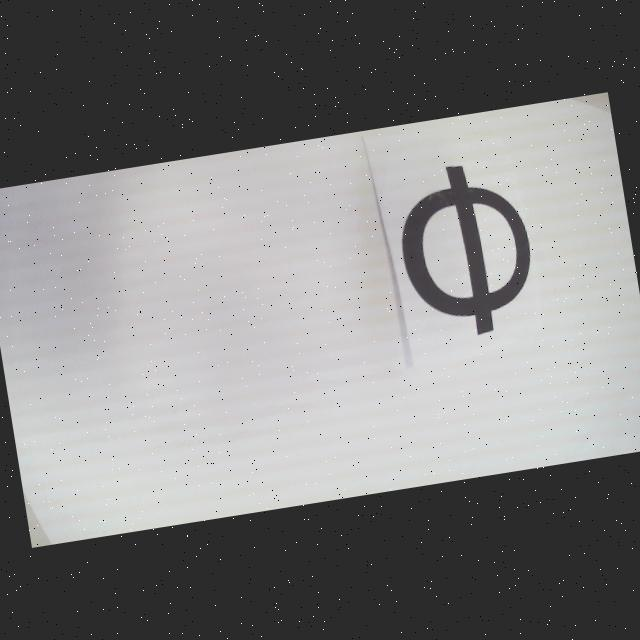PHI: (390, 156, 542, 348)
